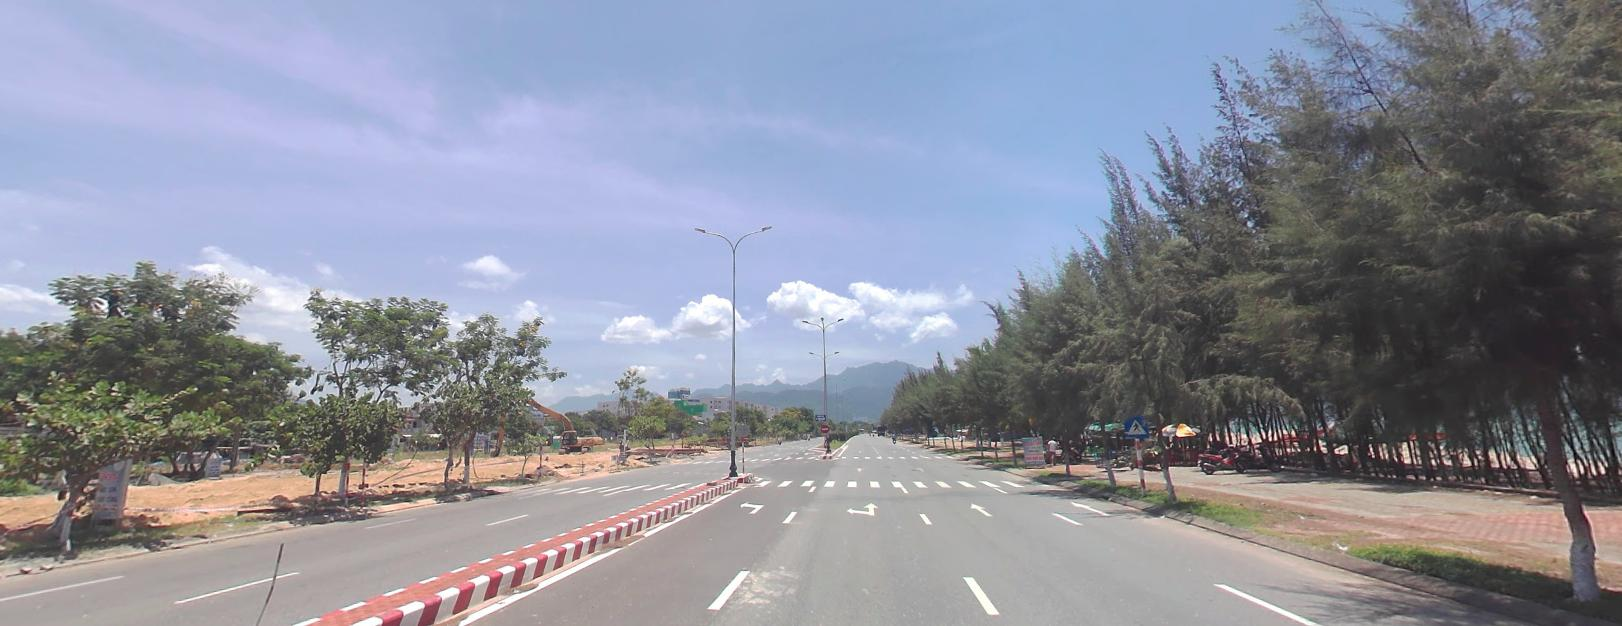Cam nguoc chieu: (820, 424, 829, 431)
